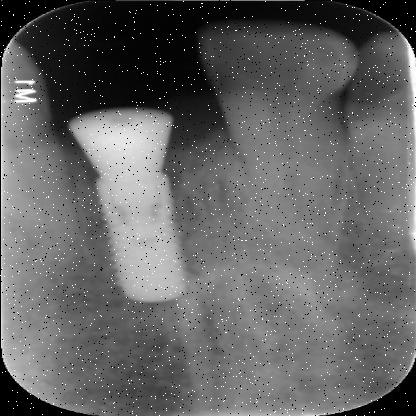ITI: (86, 170, 199, 302)
